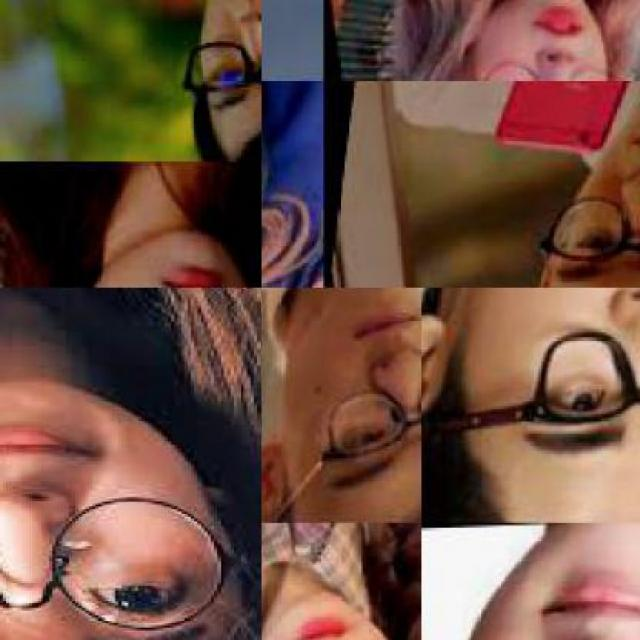glasses: (0, 498, 251, 638), (441, 330, 640, 461), (263, 386, 426, 528), (517, 149, 638, 286), (177, 40, 262, 98)
